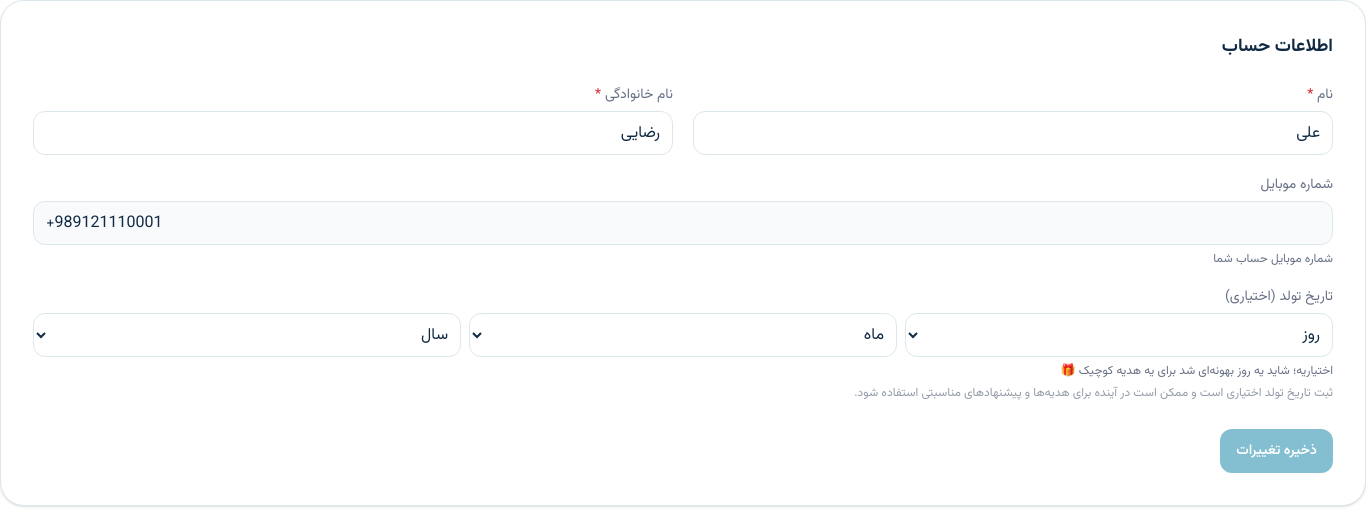
Scenario: ProfileSection › disables save until something changes
Expected: the button "ذخیره تغییرات" is disabled, [1220,429,1333,473]
Type "ی" into the field labelled "نام" at (1013, 133), box [693,111,1333,155]
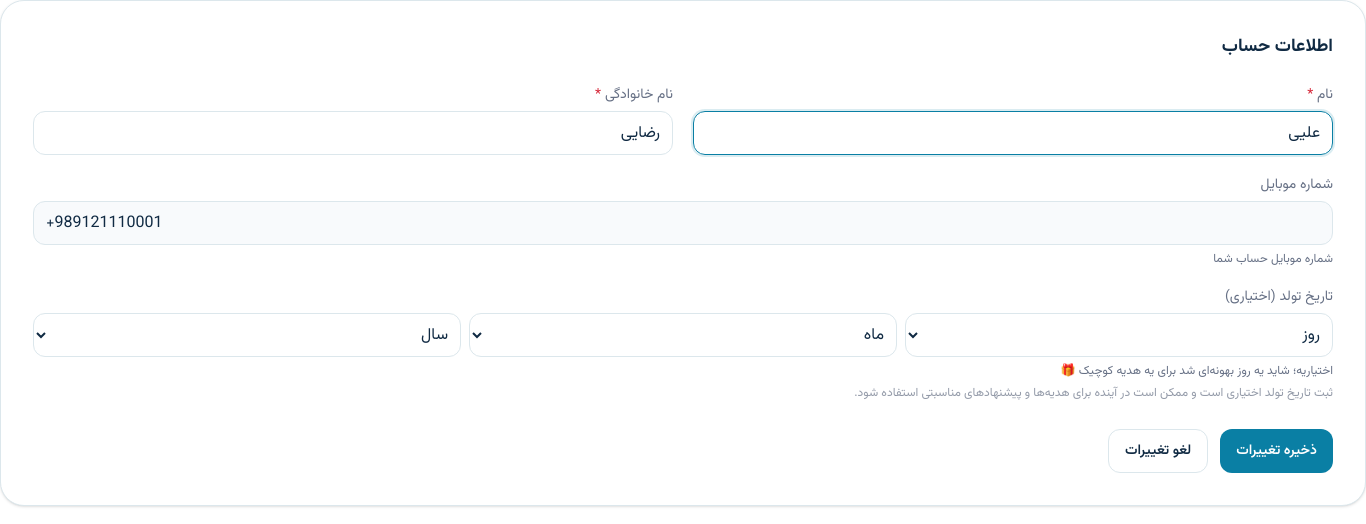
Result: the button "ذخیره تغییرات" is enabled at [1220,429,1333,473]
